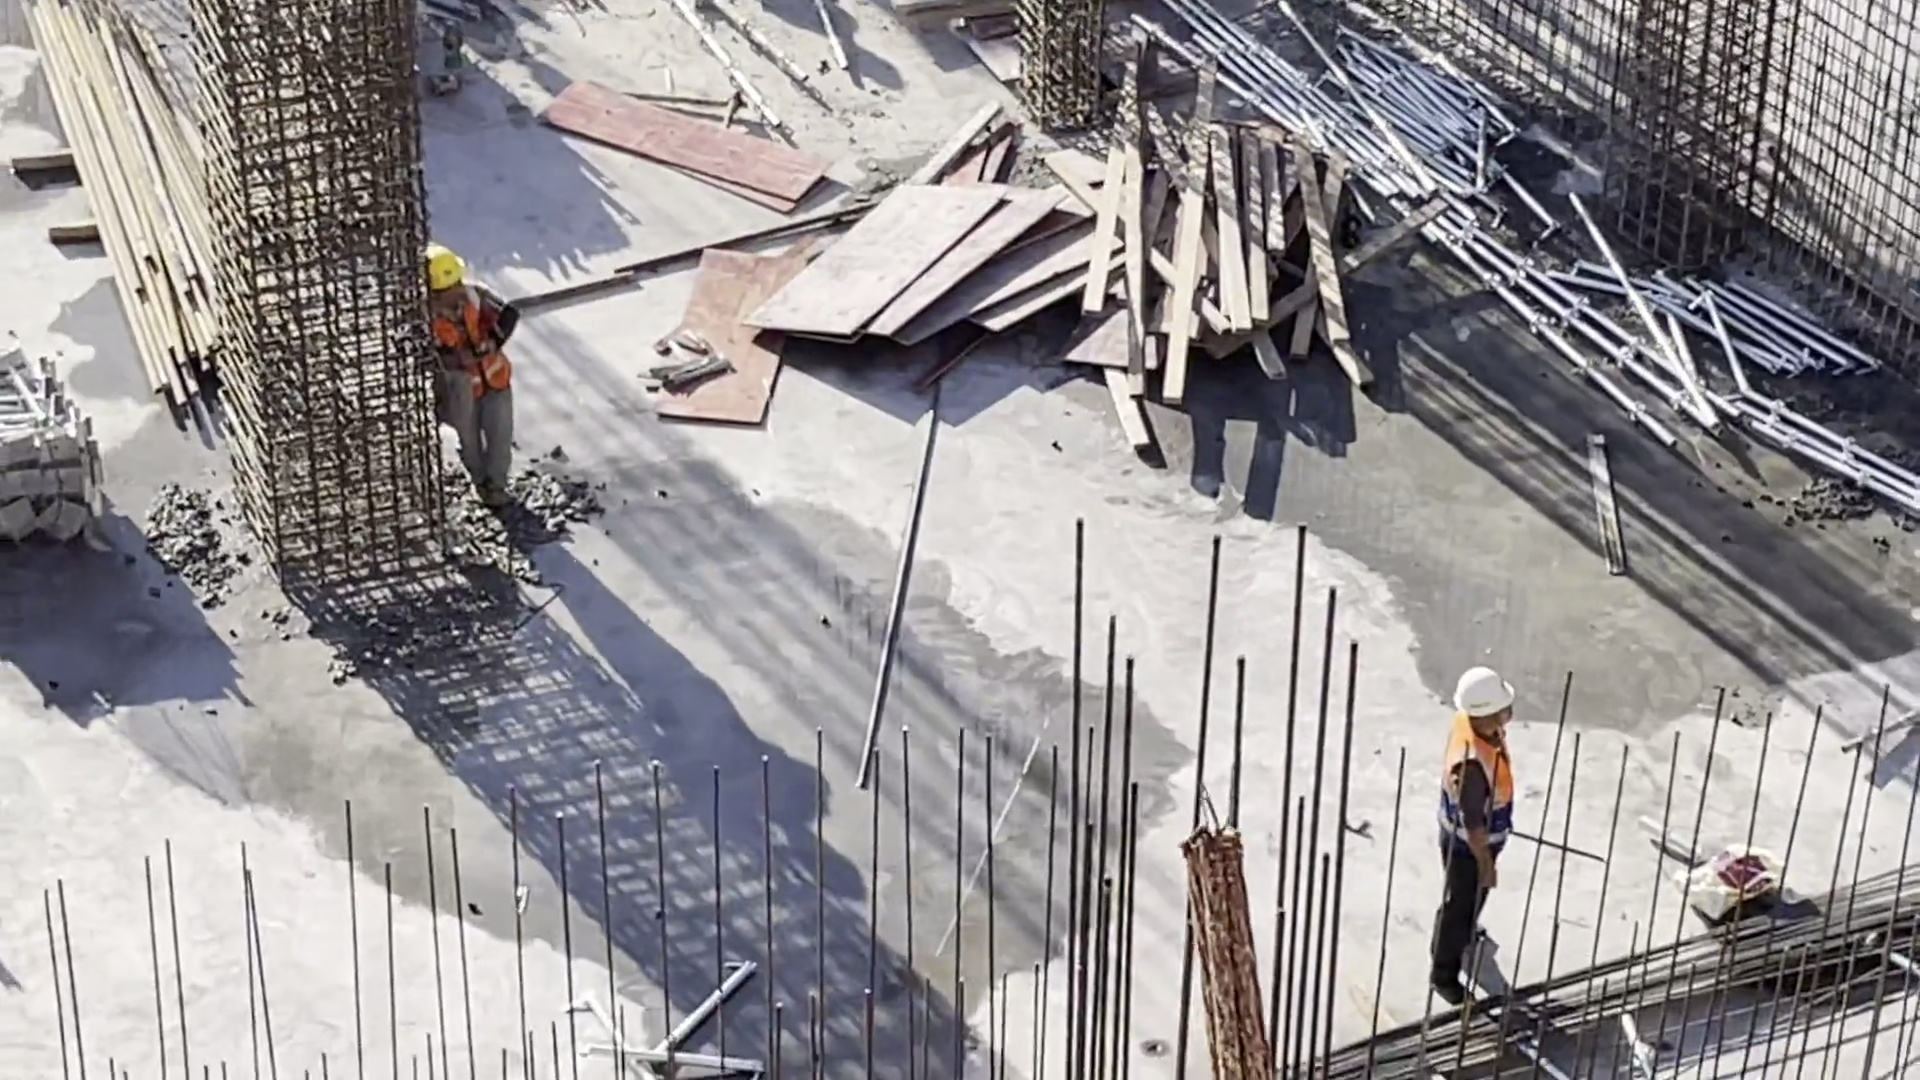board: (781, 175, 1097, 359)
helmet: (1456, 663, 1518, 717), (415, 239, 466, 290)
person: (410, 238, 555, 528), (1434, 652, 1532, 1023)
rebar: (1416, 870, 1900, 1080)
scaffold: (1305, 18, 1509, 208), (1657, 255, 1859, 400), (1, 373, 111, 551)
vest: (414, 288, 517, 394), (1447, 732, 1515, 845)
wood: (1095, 73, 1373, 428)
